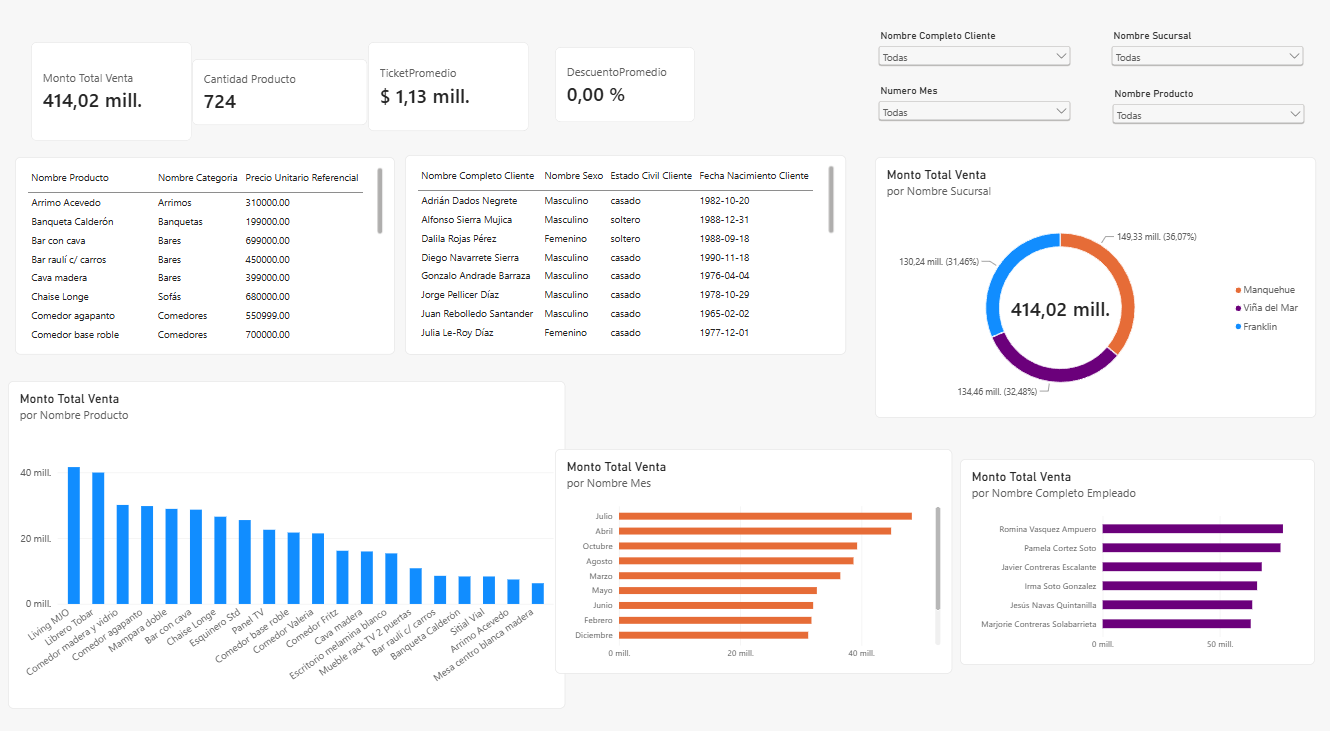

What the dashboard file says about the page in this screenshot:
{"tool":"powerbi","page":{"name":"Página 1","canvas":[1920,1080],"ordinal":0},"visuals":[{"type":"slicer","fields":{"Values":["Dim Producto.Nombre Producto"]},"box":[1579.4,139.4,285.7,110],"z":0},{"type":"slicer","fields":{"Values":["Dim Cliente.Nombre Completo Cliente"]},"box":[1267.5,48.9,285.7,82.9],"z":1000},{"type":"columnChart","fields":{"Category":["Dim Producto.Nombre Producto"],"Y":["Fact Ventas (Measures).Monto Total Venta"]},"box":[12.9,540.4,757.4,439.8],"z":2000},{"type":"cardVisual","fields":{"Data":["Fact Ventas (Measures).Monto Total Venta"]},"box":[66.1,90.5,231.4,96.3],"z":3000},{"type":"cardVisual","fields":{"Data":["Measures.TicketPromedio"]},"box":[653.9,90.5,231.4,96.3],"z":4000},{"type":"cardVisual","fields":{"Data":["Measures.DescuentoPromedio"]},"box":[960,90.5,201.2,96.3],"z":5000},{"type":"cardVisual","fields":{"Data":["Fact Ventas (Measures).Cantidad Producto"]},"box":[388,90.5,182.5,96.3],"z":6000},{"type":"tableEx","fields":{"Values":["Dim Producto.Nombre Producto","Dim Producto.Nombre Categoria","Dim Producto.Precio Unitario Referencial"]},"box":[24.4,244.3,545.7,284.3],"z":7000},{"type":"slicer","fields":{"Values":["Dim Tiempo.Numero Mes"]},"box":[1269,132.2,285.7,72.9],"z":8000},{"type":"slicer","fields":{"Values":["Dim Sucursal.Nombre Sucursal"]},"box":[1579.4,48.9,285.7,70],"z":9000},{"type":"clusteredBarChart","fields":{"Category":["Dim Tiempo.Nombre Mes"],"Y":["Fact Ventas (Measures).Monto Total Venta"]},"box":[774.6,563.4,572,438.3],"z":10000},{"type":"tableEx","fields":{"Values":["Dim Cliente.Nombre Completo Cliente","Dim Cliente.Nombre Sexo","Dim Cliente.Estado Civil Cliente","Dim Cliente.Fecha Nacimiento Cliente"]},"box":[597.8,228.5,632.9,287.1],"z":11000},{"type":"clusteredBarChart","fields":{"Category":["Dim Empleado.Nombre Completo Empleado"],"Y":["Fact Ventas (Measures).Monto Total Venta"]},"box":[1363.8,630.9,523.1,349.2],"z":12000},{"type":"donutChart","fields":{"Category":["Dim Sucursal.Nombre Sucursal"],"Y":["Fact Ventas (Measures).Monto Total Venta"]},"box":[1316.4,221.3,524.6,399.5],"z":12001}]}

Visuals, with their boxes in screenshot pixels (x1, y1, x2, y2), scaled from the page's 1920x1080 canvas onto the 1330x731 screenshot:
slicer - Dim Producto.Nombre Producto: 1094 94 1292 169
slicer - Dim Cliente.Nombre Completo Cliente: 878 33 1076 89
columnChart - Dim Producto.Nombre Producto x Fact Ventas (Measures).Monto Total Venta: 9 366 534 663
cardVisual - Fact Ventas (Measures).Monto Total Venta: 46 61 206 126
cardVisual - Measures.TicketPromedio: 453 61 613 126
cardVisual - Measures.DescuentoPromedio: 665 61 804 126
cardVisual - Fact Ventas (Measures).Cantidad Producto: 269 61 395 126
tableEx - Dim Producto.Nombre Producto x Dim Producto.Nombre Categoria: 17 165 395 358
slicer - Dim Tiempo.Numero Mes: 879 89 1077 139
slicer - Dim Sucursal.Nombre Sucursal: 1094 33 1292 80
clusteredBarChart - Dim Tiempo.Nombre Mes x Fact Ventas (Measures).Monto Total Venta: 537 381 933 678
tableEx - Dim Cliente.Nombre Completo Cliente x Dim Cliente.Nombre Sexo: 414 155 853 349
clusteredBarChart - Dim Empleado.Nombre Completo Empleado x Fact Ventas (Measures).Monto Total Venta: 945 427 1307 663
donutChart - Dim Sucursal.Nombre Sucursal x Fact Ventas (Measures).Monto Total Venta: 912 150 1275 420
